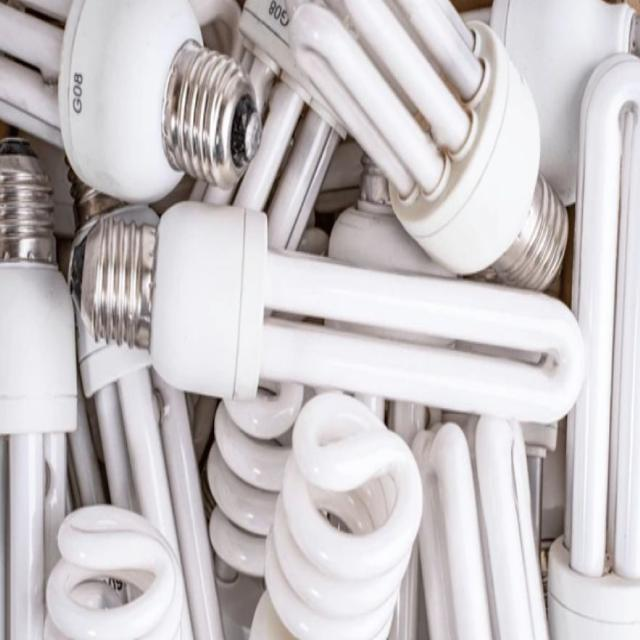electronic: (1, 0, 584, 638), (248, 389, 423, 638), (56, 0, 262, 205), (68, 197, 268, 401), (388, 18, 540, 276), (0, 136, 78, 436), (44, 502, 190, 639), (473, 169, 569, 293)
